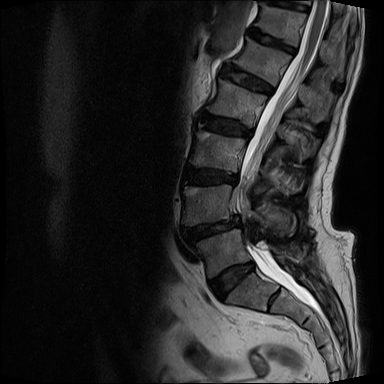Degenerative Disc Disease (DDD): (186, 211, 246, 245), (243, 27, 303, 61)
Lumbar Disc Bulge (LDB): (200, 109, 257, 143), (179, 164, 246, 190)
Normal IVD: (202, 258, 261, 307), (216, 58, 279, 102)
Spinal Stenosis (SS): (226, 200, 256, 237), (228, 168, 246, 189)
Spondylolisthesis: (171, 197, 260, 274)
